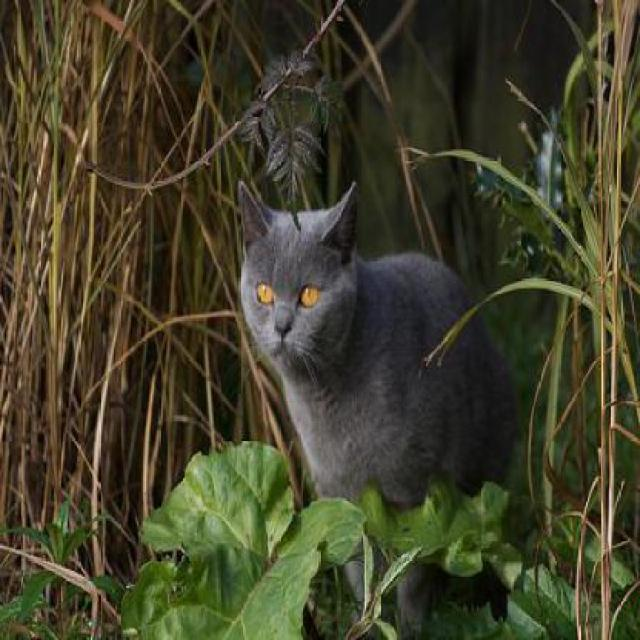cat: (236, 179, 516, 636)
